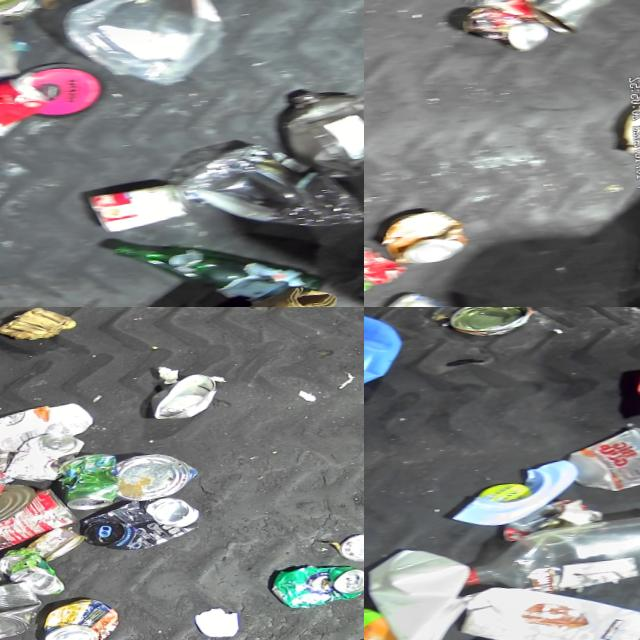can: (81, 492, 202, 554), (86, 180, 194, 235), (378, 205, 472, 266), (0, 484, 79, 554), (500, 494, 606, 542), (1, 430, 88, 485), (269, 560, 364, 610), (462, 0, 550, 53), (115, 448, 200, 502), (0, 68, 48, 151), (56, 452, 121, 512), (526, 0, 631, 37), (149, 370, 223, 420), (40, 595, 122, 640), (0, 544, 65, 597), (445, 307, 536, 339), (0, 577, 45, 640), (364, 285, 482, 307), (26, 524, 86, 563), (364, 239, 408, 288), (0, 481, 37, 537), (338, 530, 364, 561)
plastic_bottle: (0, 38, 46, 117)
